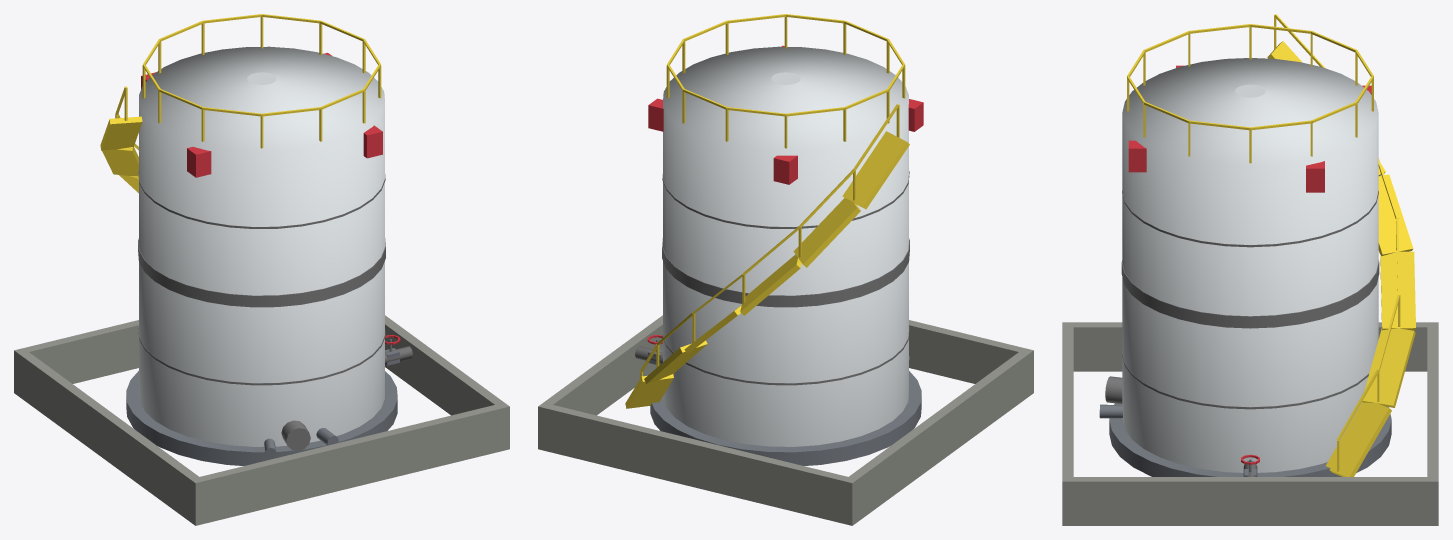
Rendered from port_cargo2_close.fbx.
3 renders of one model, left to right at view 1: azimuth 30°, elevation 25°; view 2: azimuth 150°, elevation 25°; view 3: azimuth 270°, elevation 25°, orthographic. The views are drawn at different scales.
Visible parts, largest first — view 1: a402_0_port_cargo2_close; view 2: a402_0_port_cargo2_close; view 3: a402_0_port_cargo2_close.
Part boxes in pixels (x1,y1,x2,y2): a402_0_port_cargo2_close: (14, 14, 509, 525); a402_0_port_cargo2_close: (538, 14, 1033, 525); a402_0_port_cargo2_close: (1062, 14, 1438, 525).
Size of the model in its own units: 10 by 10.85 by 10.
